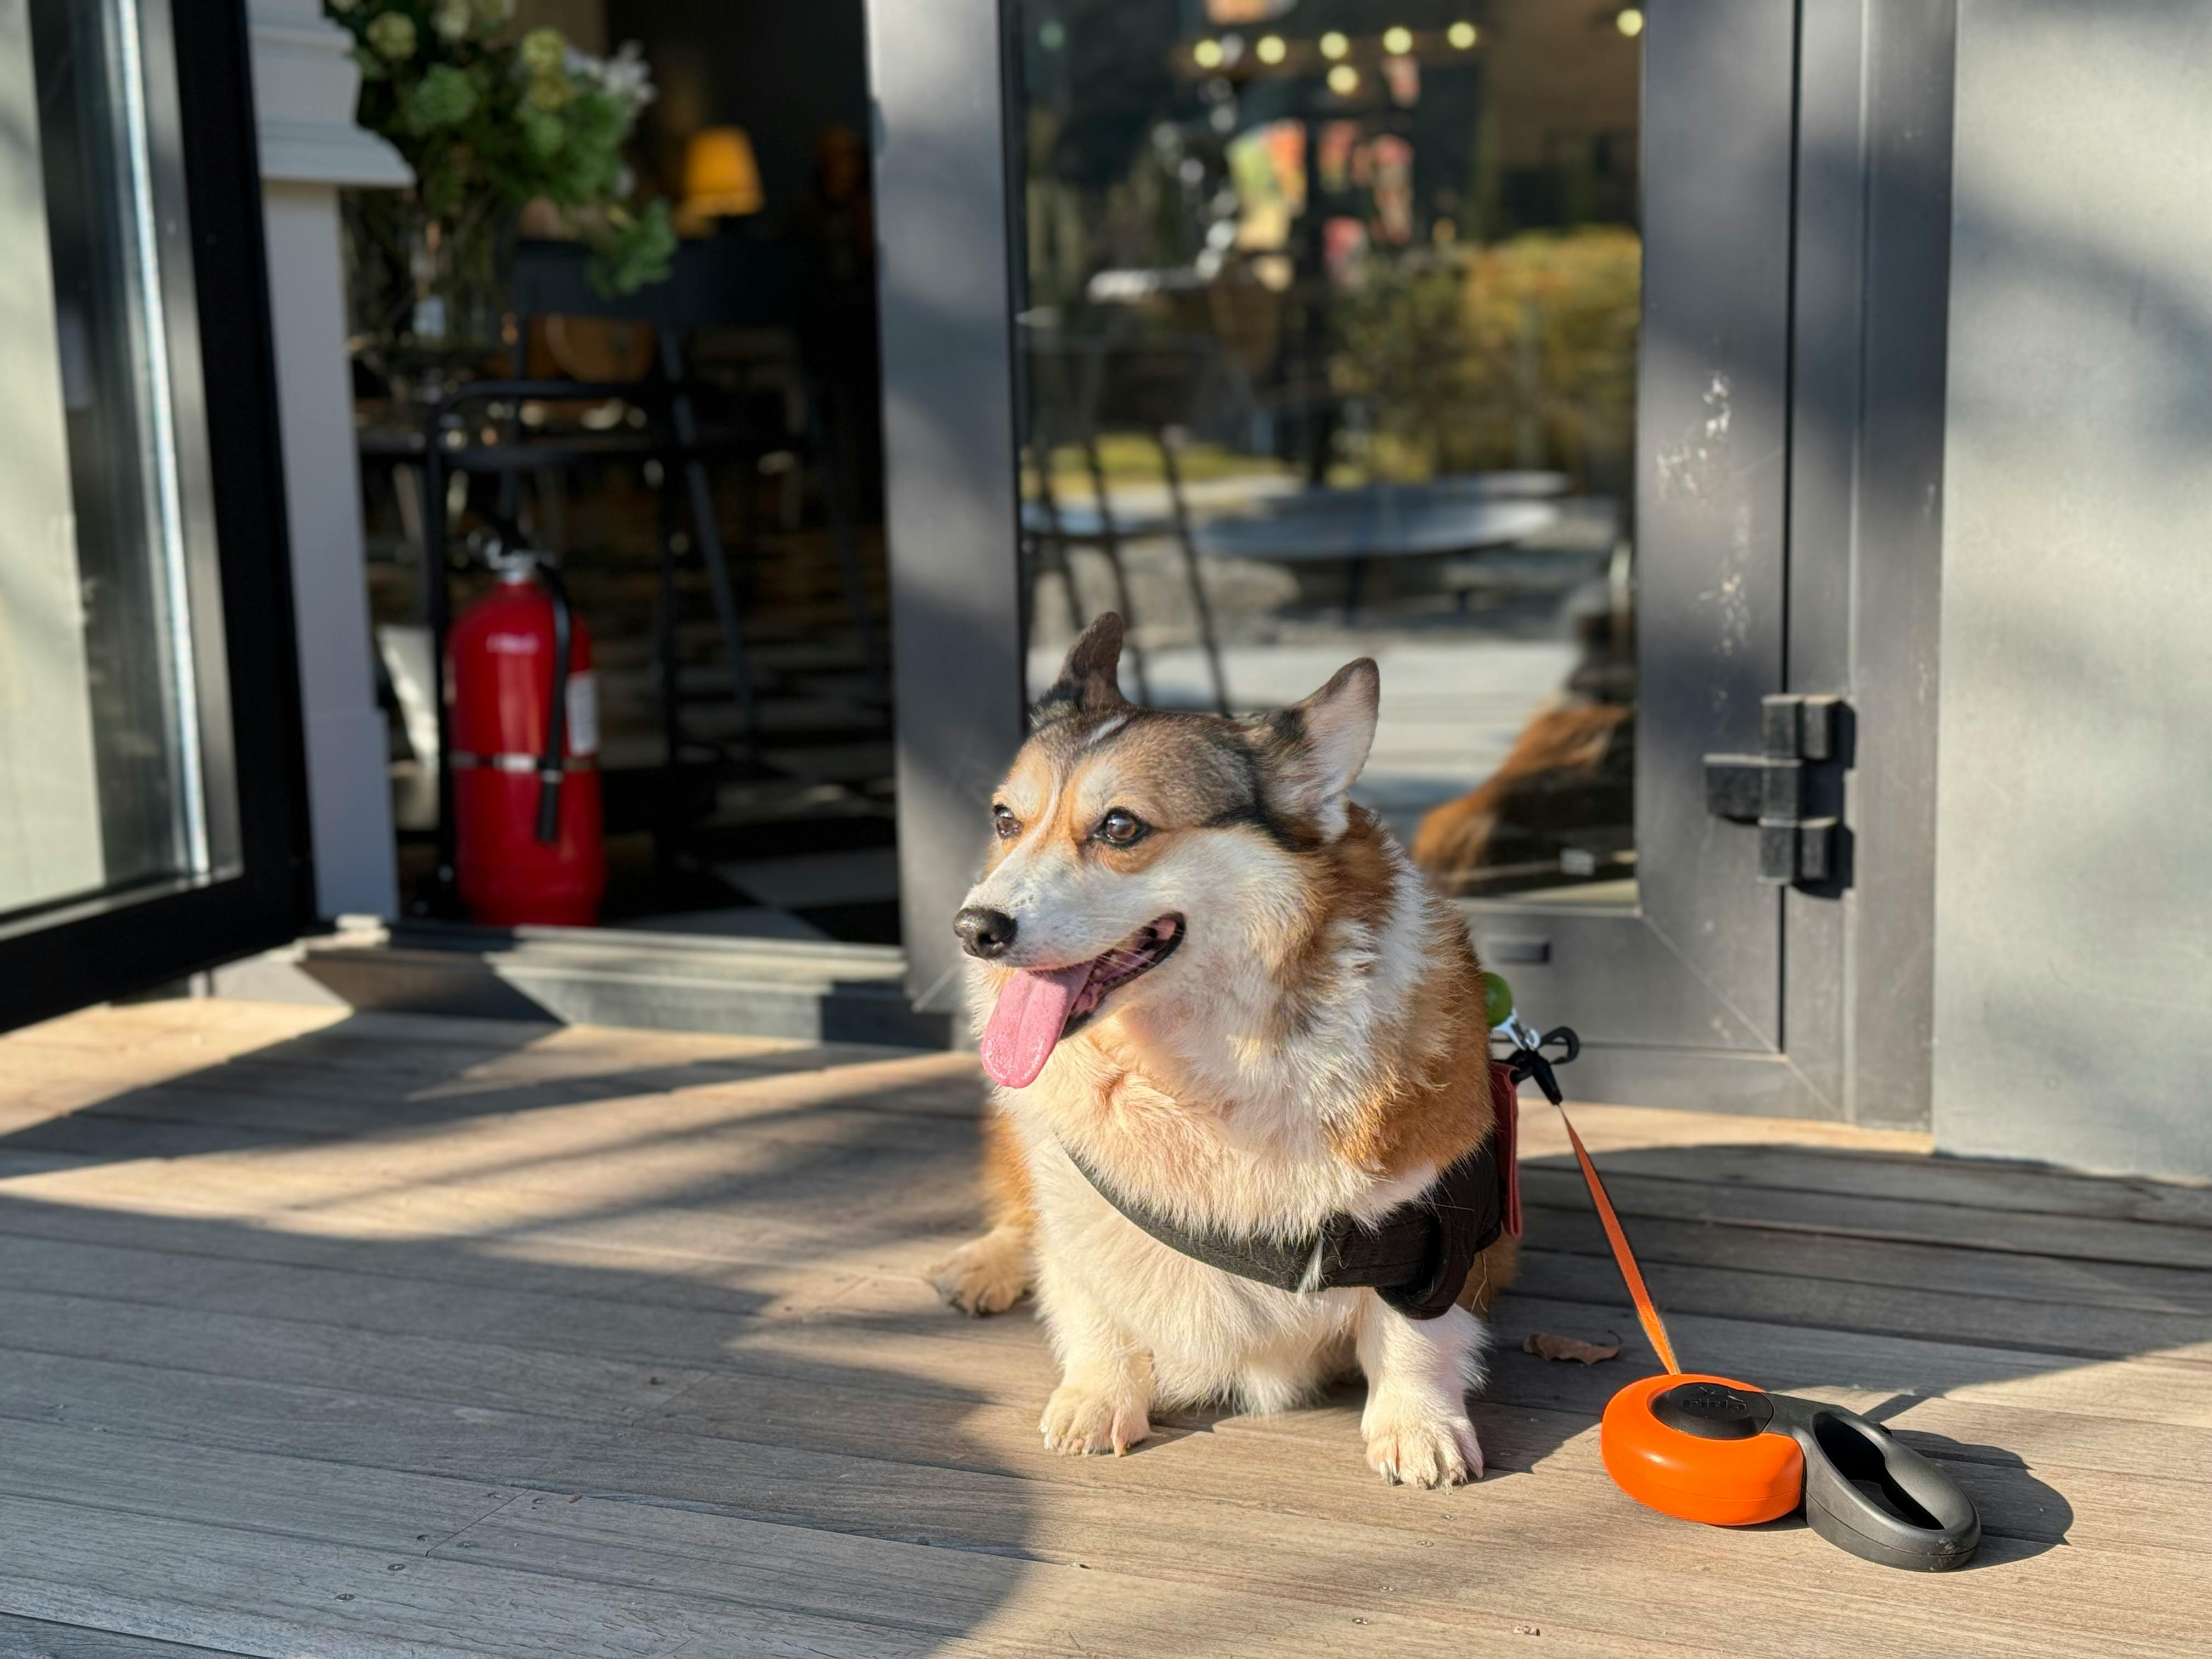extintor: (418, 491, 636, 943)
